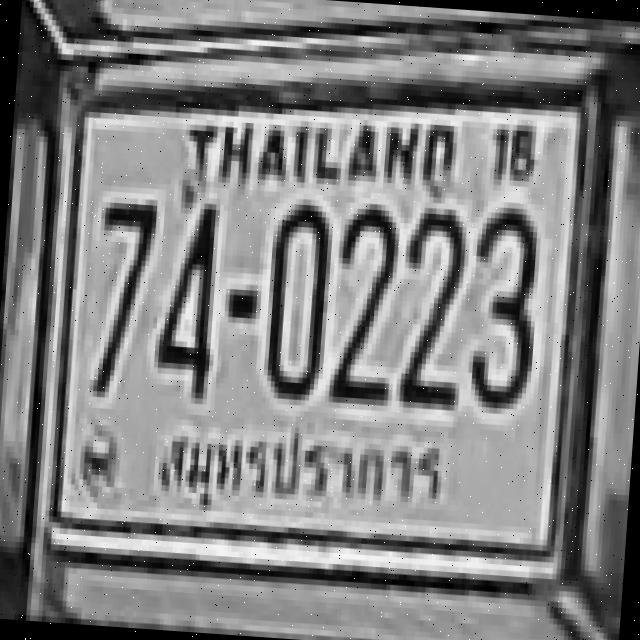0: (262, 197, 330, 395)
2: (326, 198, 399, 402), (393, 203, 466, 407)
3: (466, 200, 538, 404)
4: (154, 194, 218, 398)
7: (90, 196, 154, 394)
SamutPrakan: (157, 411, 450, 518)
